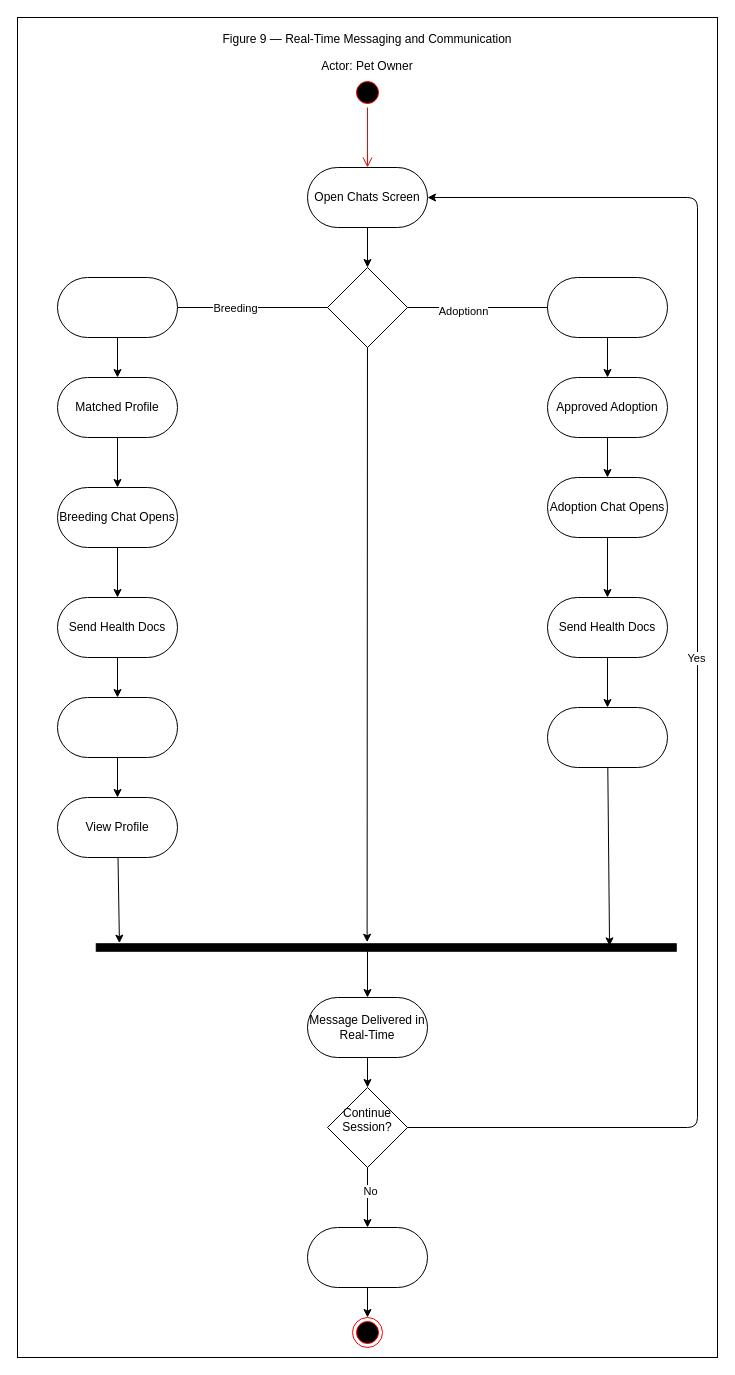
Some shapes in this 735 by 1375 pixel diagram are drawn without their labels. The centre of each missing label's shape, as x and y in pixels:
Chat Type?: (x=367, y=307)
Messaging Session Complete: (x=367, y=1257)
Mutual match confirmed: (x=117, y=307)
Request approved: (x=607, y=307)
Share Location: (x=117, y=727)
